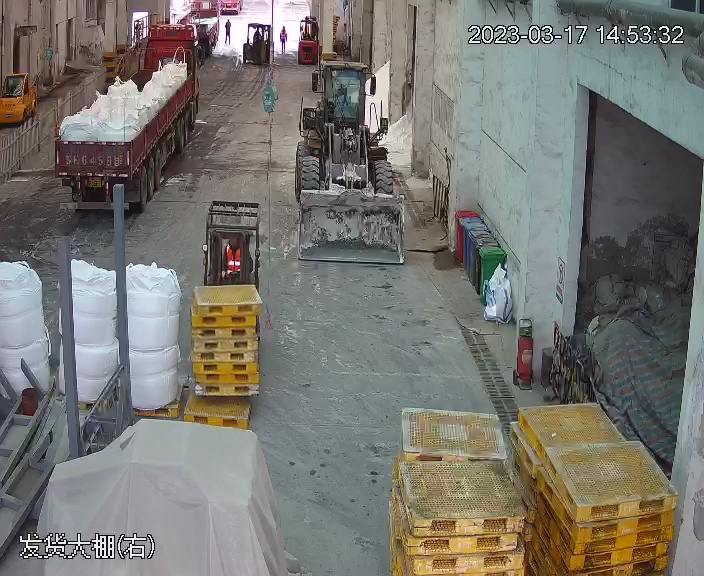people: (279, 24, 288, 57), (223, 17, 232, 44)
truck: (42, 20, 196, 215)
